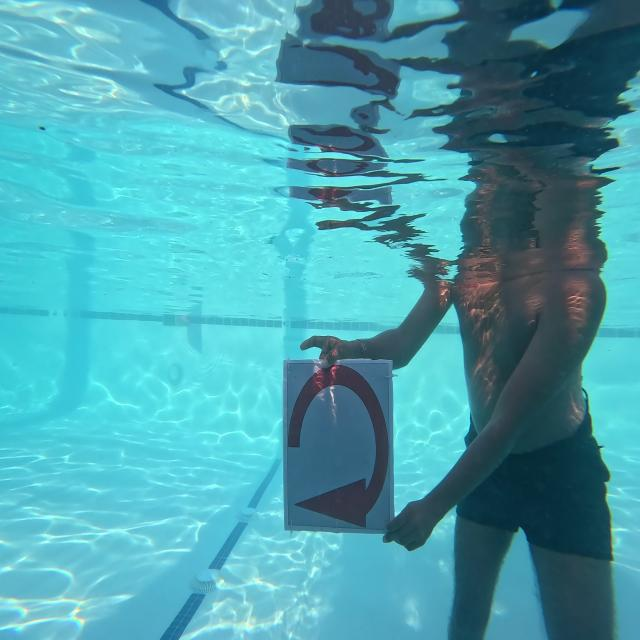red_side: (280, 350, 395, 536)
